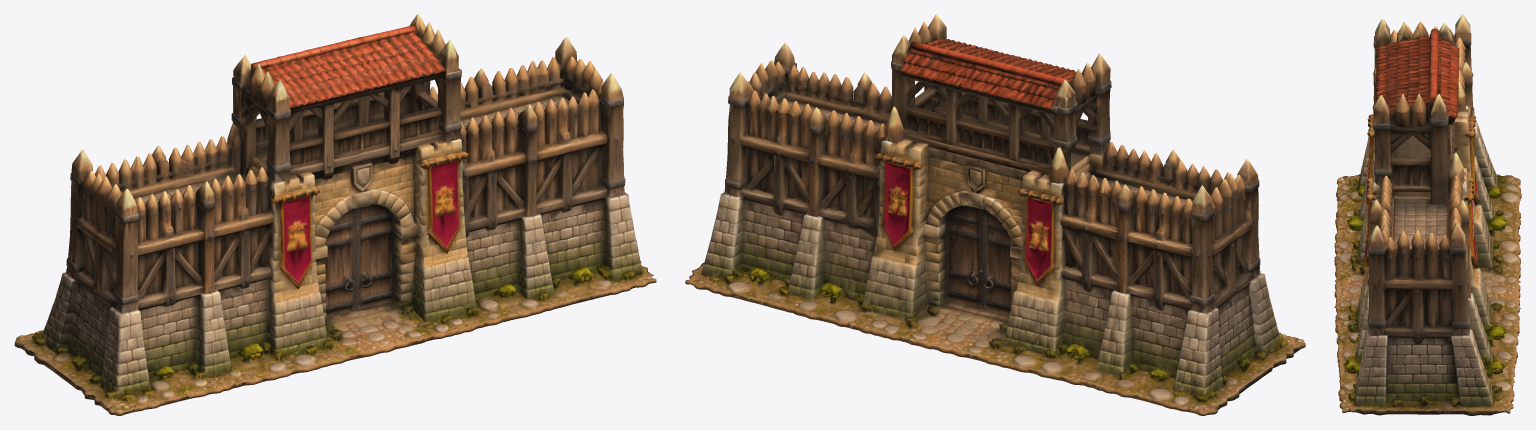
The model's file is SM_CercaReforzada.fbx.
The picture shows the model from 3 angles, left to right: view 1: azimuth 30°, elevation 25°; view 2: azimuth 150°, elevation 25°; view 3: azimuth 270°, elevation 25°; orthographic projection. The views are drawn at different scales.
Visible parts, largest first — view 1: SM_CercaReforzada; view 2: SM_CercaReforzada; view 3: SM_CercaReforzada.
Part boxes in pixels (x1,y1,x2,y2): SM_CercaReforzada: (14,14,656,415); SM_CercaReforzada: (685,14,1305,415); SM_CercaReforzada: (1334,14,1521,415).
Size of the model in its own units: 100 by 47.23 by 33.2.
Materials: 1 (1 with a texture image).
